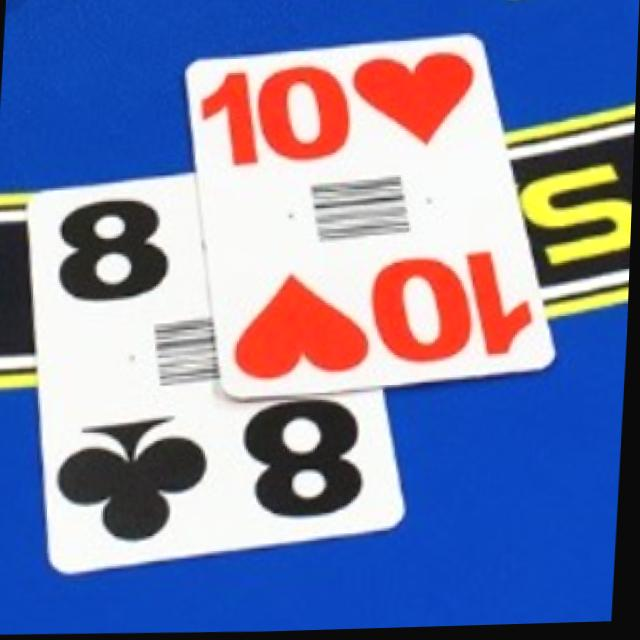Card-10: (190, 37, 553, 396)
Card-8: (32, 173, 405, 569)
